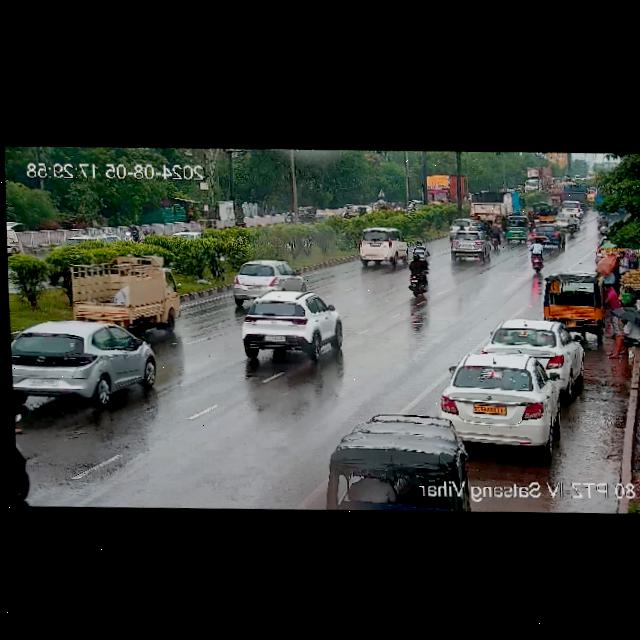car: (10, 326, 160, 422), (241, 288, 344, 372), (442, 363, 547, 442), (486, 323, 587, 375), (223, 247, 305, 304), (541, 272, 600, 321), (356, 225, 409, 265), (450, 229, 489, 264), (529, 221, 567, 251), (504, 214, 527, 241), (540, 205, 556, 221), (297, 206, 313, 221), (348, 206, 364, 218), (370, 202, 387, 212), (533, 203, 544, 214)
motorcycle: (394, 253, 430, 299), (518, 229, 549, 279), (409, 235, 428, 264), (118, 221, 140, 243), (489, 221, 503, 250), (565, 211, 580, 237), (283, 208, 295, 226)
person: (608, 306, 640, 362), (598, 282, 616, 325), (614, 243, 634, 275), (599, 255, 618, 287)
truck: (63, 247, 173, 324), (421, 171, 466, 207), (466, 187, 518, 218), (522, 160, 554, 192)
